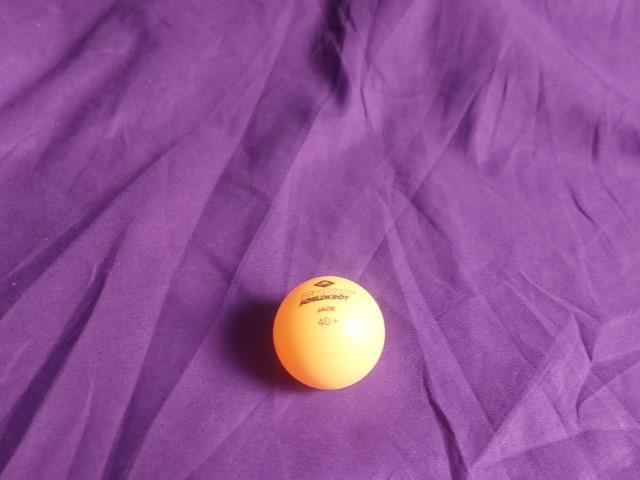oball: (264, 264, 395, 401)
